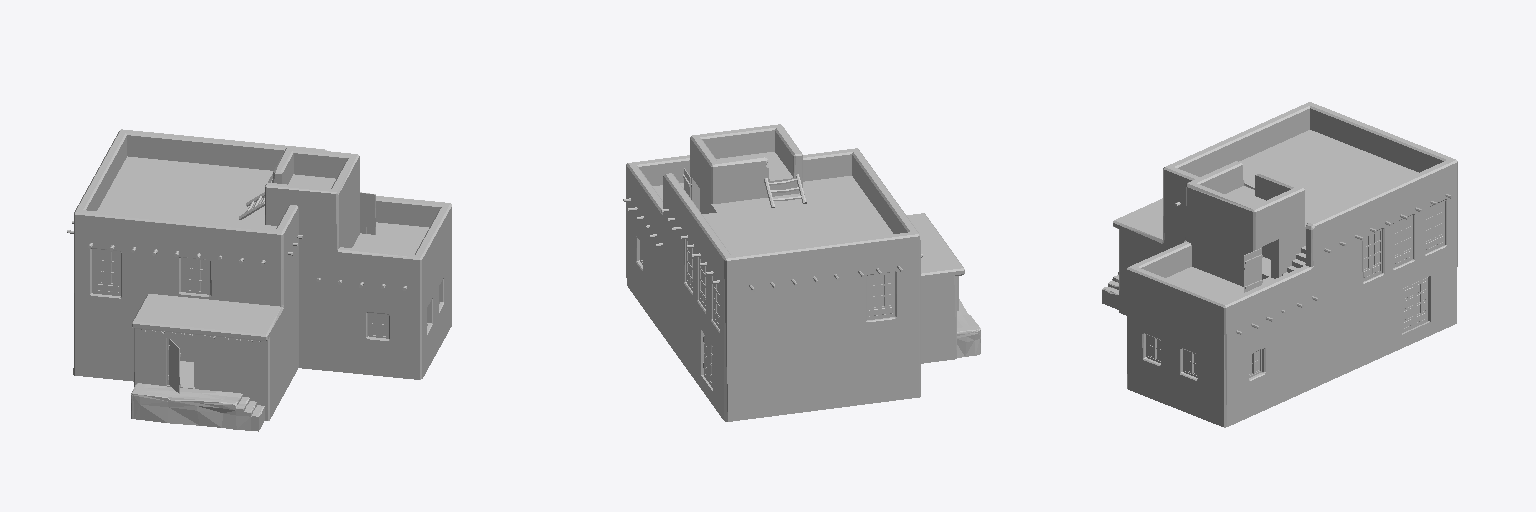
The model's file is Low Poly Afghanistan House_obj.obj.
The picture shows the model from 3 angles: view 1: azimuth 30°, elevation 25°; view 2: azimuth 150°, elevation 25°; view 3: azimuth 270°, elevation 25°; orthographic projection.
Visible parts, largest first — view 1: Afghanistan_Houses_11; view 2: Afghanistan_Houses_11; view 3: Afghanistan_Houses_11.
Part boxes in pixels (left/top/right/bottom): Afghanistan_Houses_11: left=67, top=129, right=451, bottom=431; Afghanistan_Houses_11: left=623, top=124, right=980, bottom=421; Afghanistan_Houses_11: left=1102, top=102, right=1457, bottom=427.
Bounding box in the file's own units: 444 × 225 × 406.